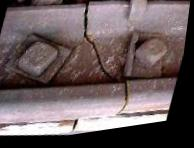person: (51, 0, 164, 129), (66, 117, 93, 138)
